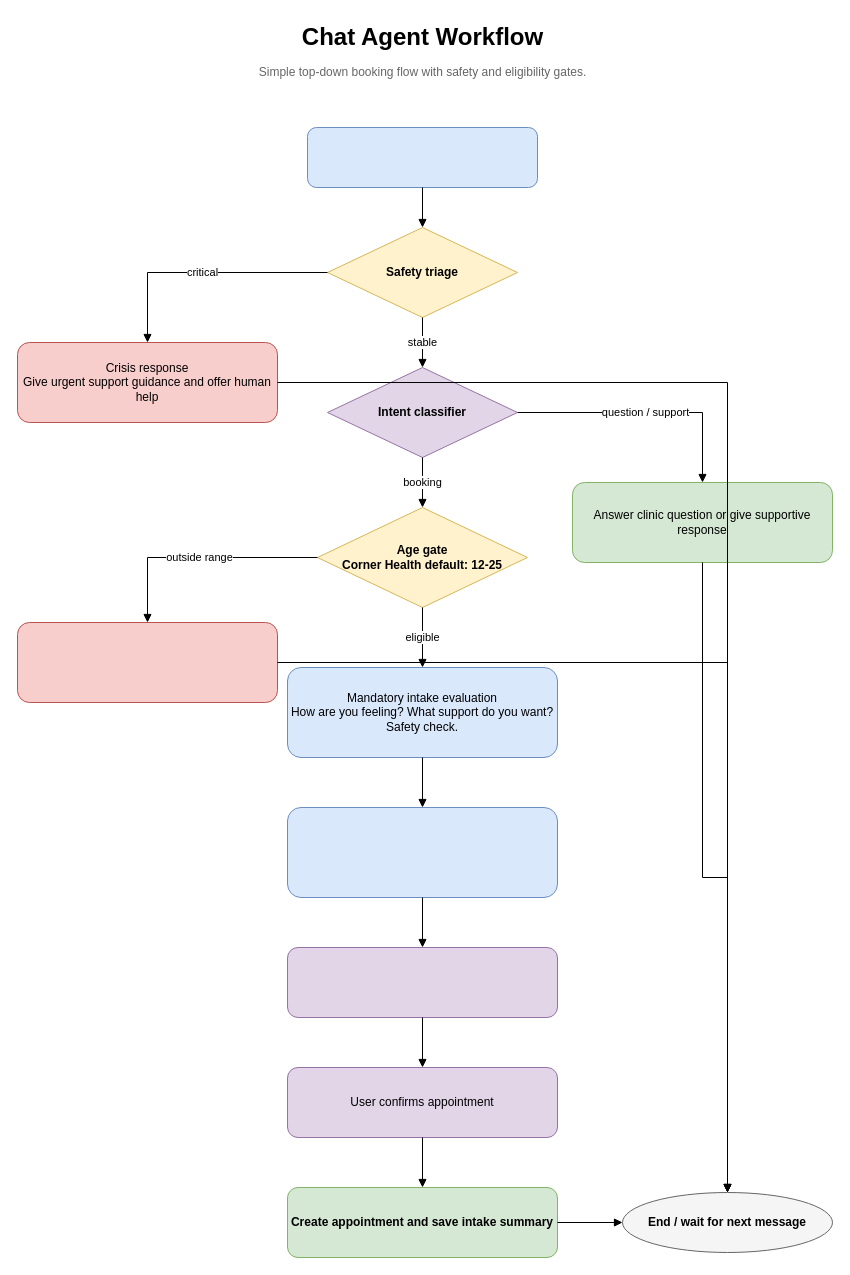
The diagram is 850 pixels wide and 1275 high, and some of its shapes have lost their labels. Each missing label, with the box of its shape:
Collect booking details Name, email, phone, consent, preferred time: (286, 806, 558, 898)
Not eligible for booking Route to clinic contact or alternate support: (16, 622, 278, 702)
Show available doctors and slots: (286, 946, 558, 1018)
User message: (306, 126, 538, 188)
